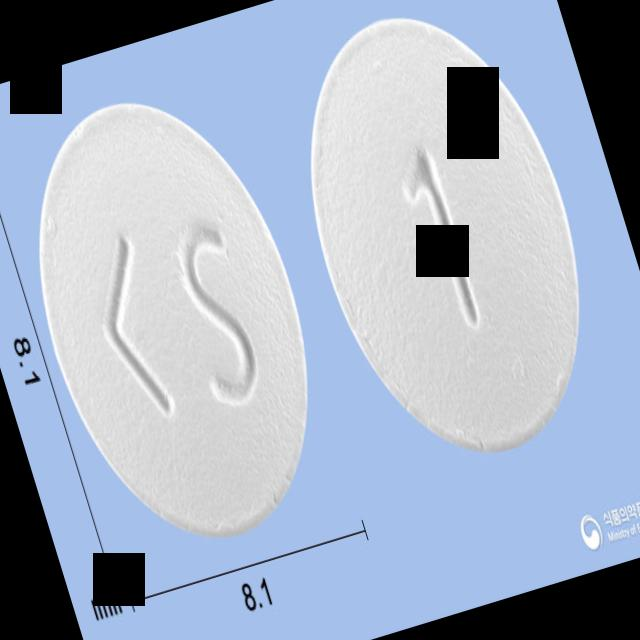Levofxa: (0, 66, 359, 573), (261, 0, 627, 484)
